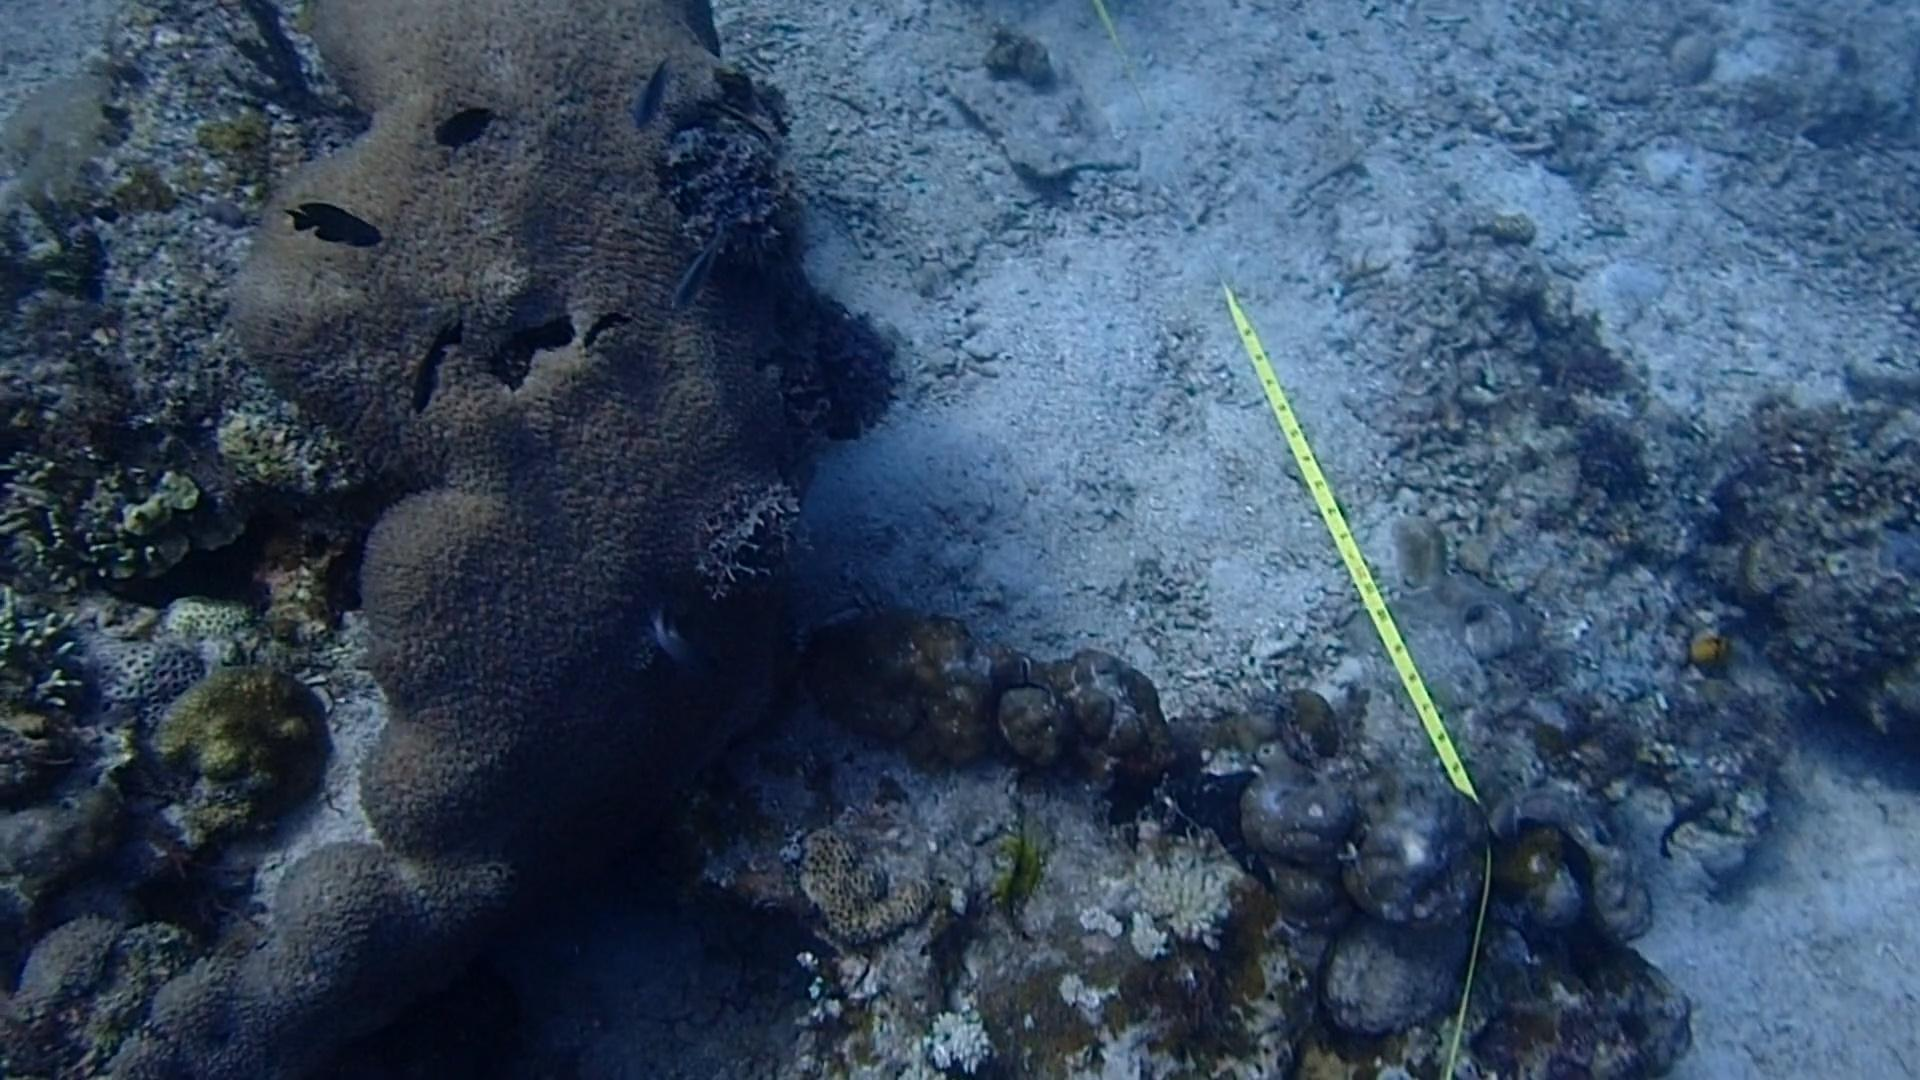Dark Fish: (384, 319, 471, 411), (276, 189, 384, 261), (1648, 773, 1724, 868), (419, 82, 504, 161), (566, 297, 628, 351)
Light Fish: (661, 222, 735, 323), (633, 603, 713, 676), (622, 51, 690, 128)
